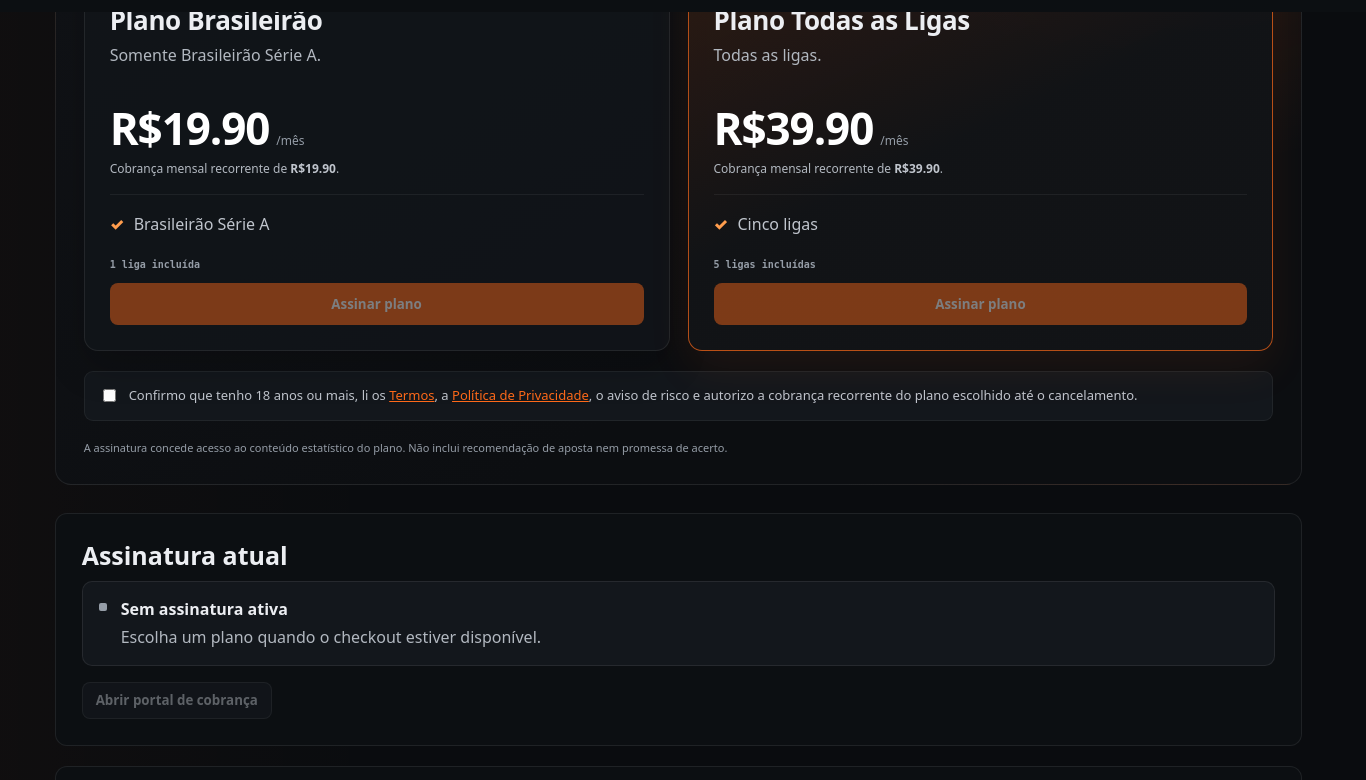
Test: só habilita checkout após aceite explícito da cobrança recorrente
(page scrolled)
Check: the button "Assinar plano" below "1 liga incluída" is disabled, box [110,283,644,325]
What coordinates should you click on to do the following:
click the checkbox named "autorizo a cobrança recorrente"
I would click on:
 (109, 396)
Its box is [103,389,116,402].
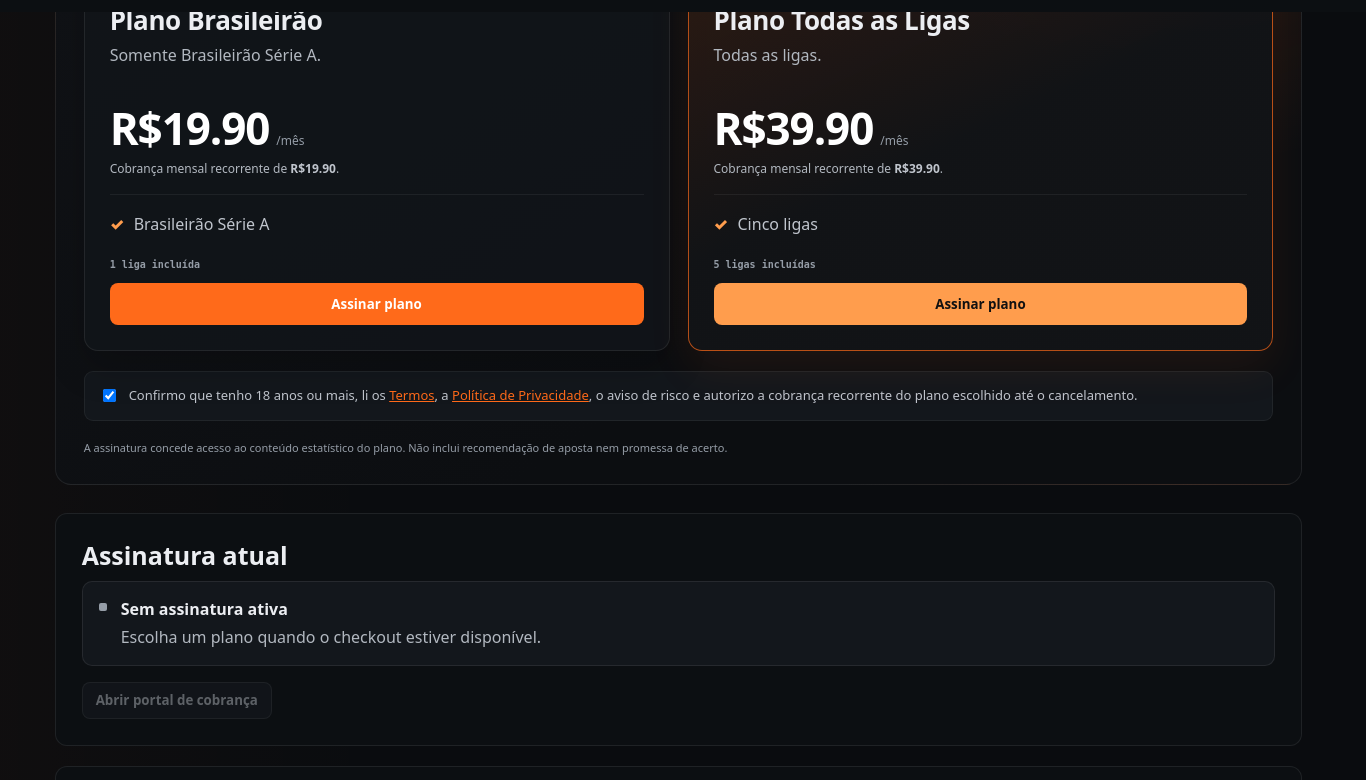
Check: the button "Assinar plano" below "1 liga incluída" is enabled, box [110,283,644,325]
Check: the button "Assinar plano" below "5 ligas incluídas" is enabled, box [714,283,1247,325]
